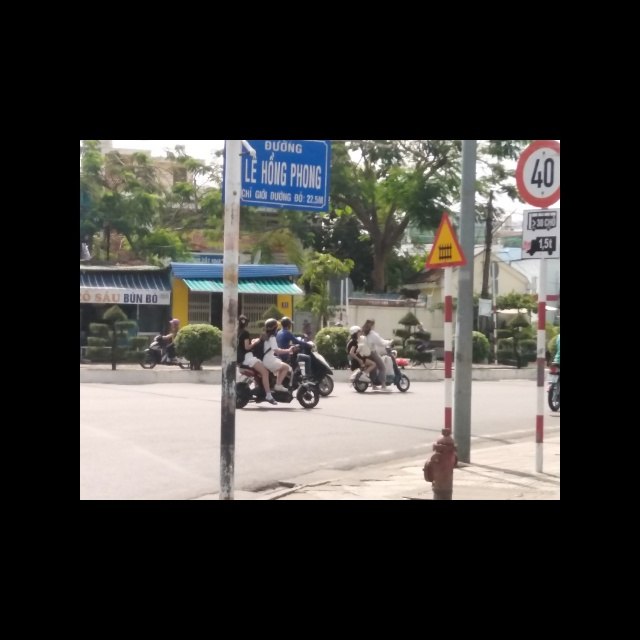Giao nhau với đường sắt có rào chắn: (423, 210, 466, 269)
Tốc độ tối đa cho phép 40km/h: (510, 140, 560, 206)
